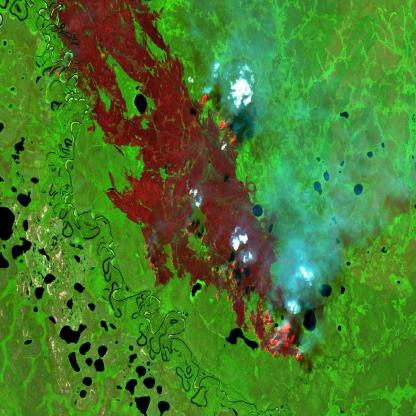fire: (136, 235, 306, 368), (195, 86, 240, 150)
